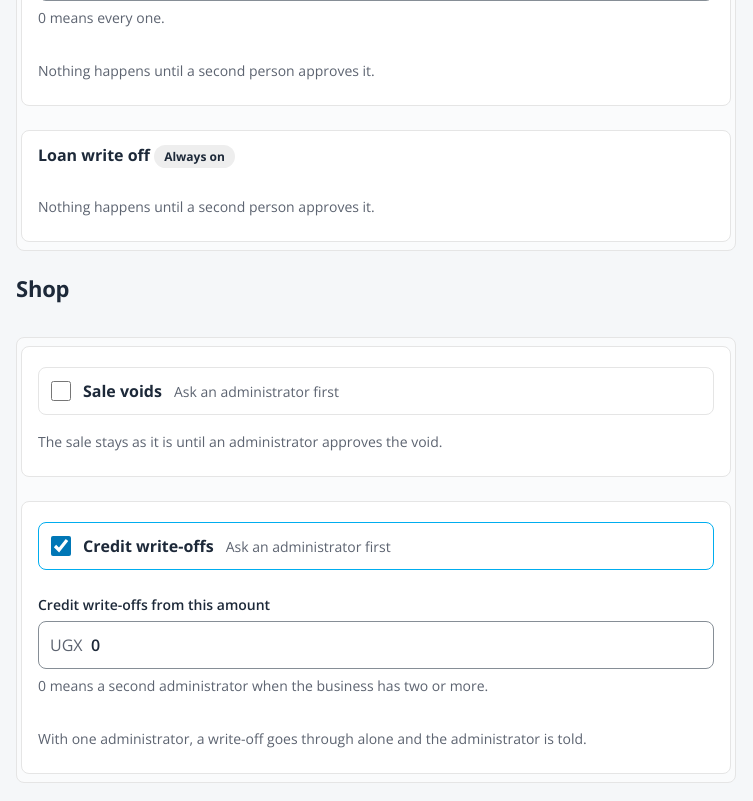
it: the approval rules screen › asks for the authenticator code of an administrator who has one
(page scrolled)
Click the checkbox labelled "Sale voids Ask an administrator first".
click(61, 391)  # box x1=51 y1=381 x2=71 y2=401
(page scrolled)
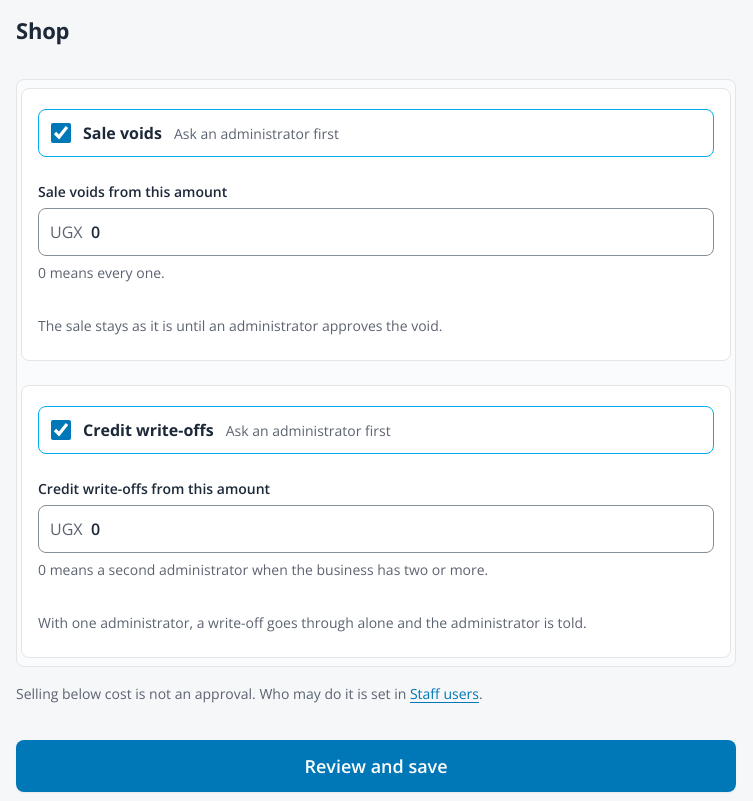
Click the button "Review and save".
click(376, 766)  # box x1=16 y1=740 x2=736 y2=792
(page scrolled)
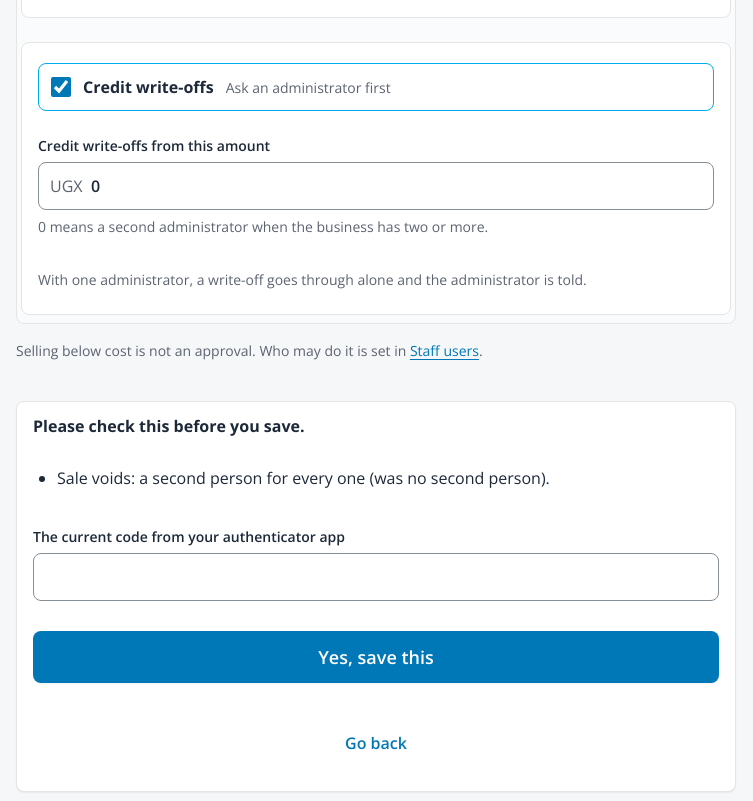
Now the field labelled "The current code from your authenticator app" is shown, box x1=33 y1=553 x2=719 y2=601
